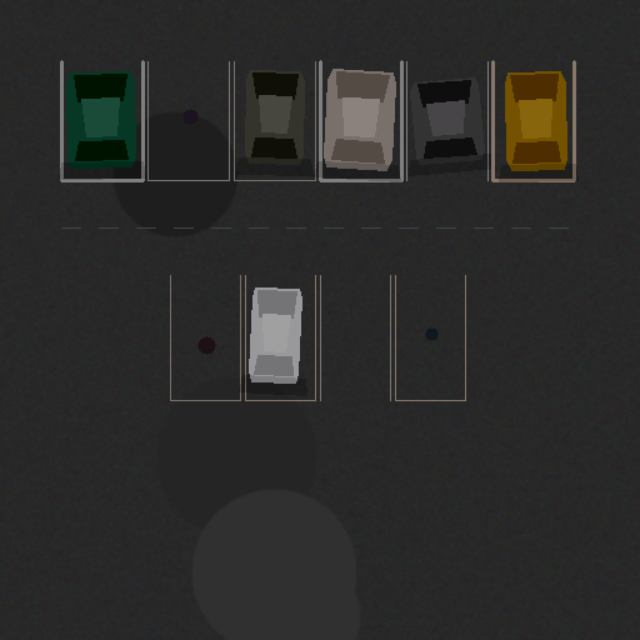space-empty: (147, 61, 229, 180), (170, 275, 240, 400), (320, 275, 390, 400), (395, 275, 465, 400)
space-occupied: (61, 61, 143, 180), (234, 61, 315, 180), (320, 61, 401, 180), (406, 61, 487, 180), (493, 61, 574, 180), (245, 275, 315, 400)
